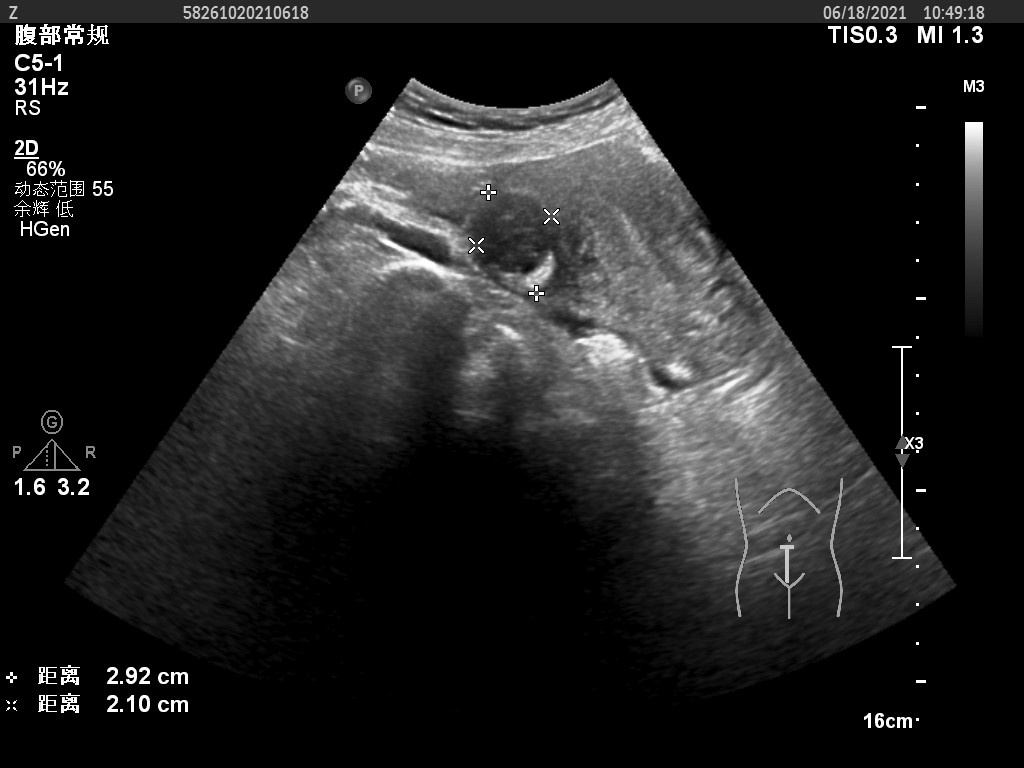肌瘤: (471, 197, 548, 272)
